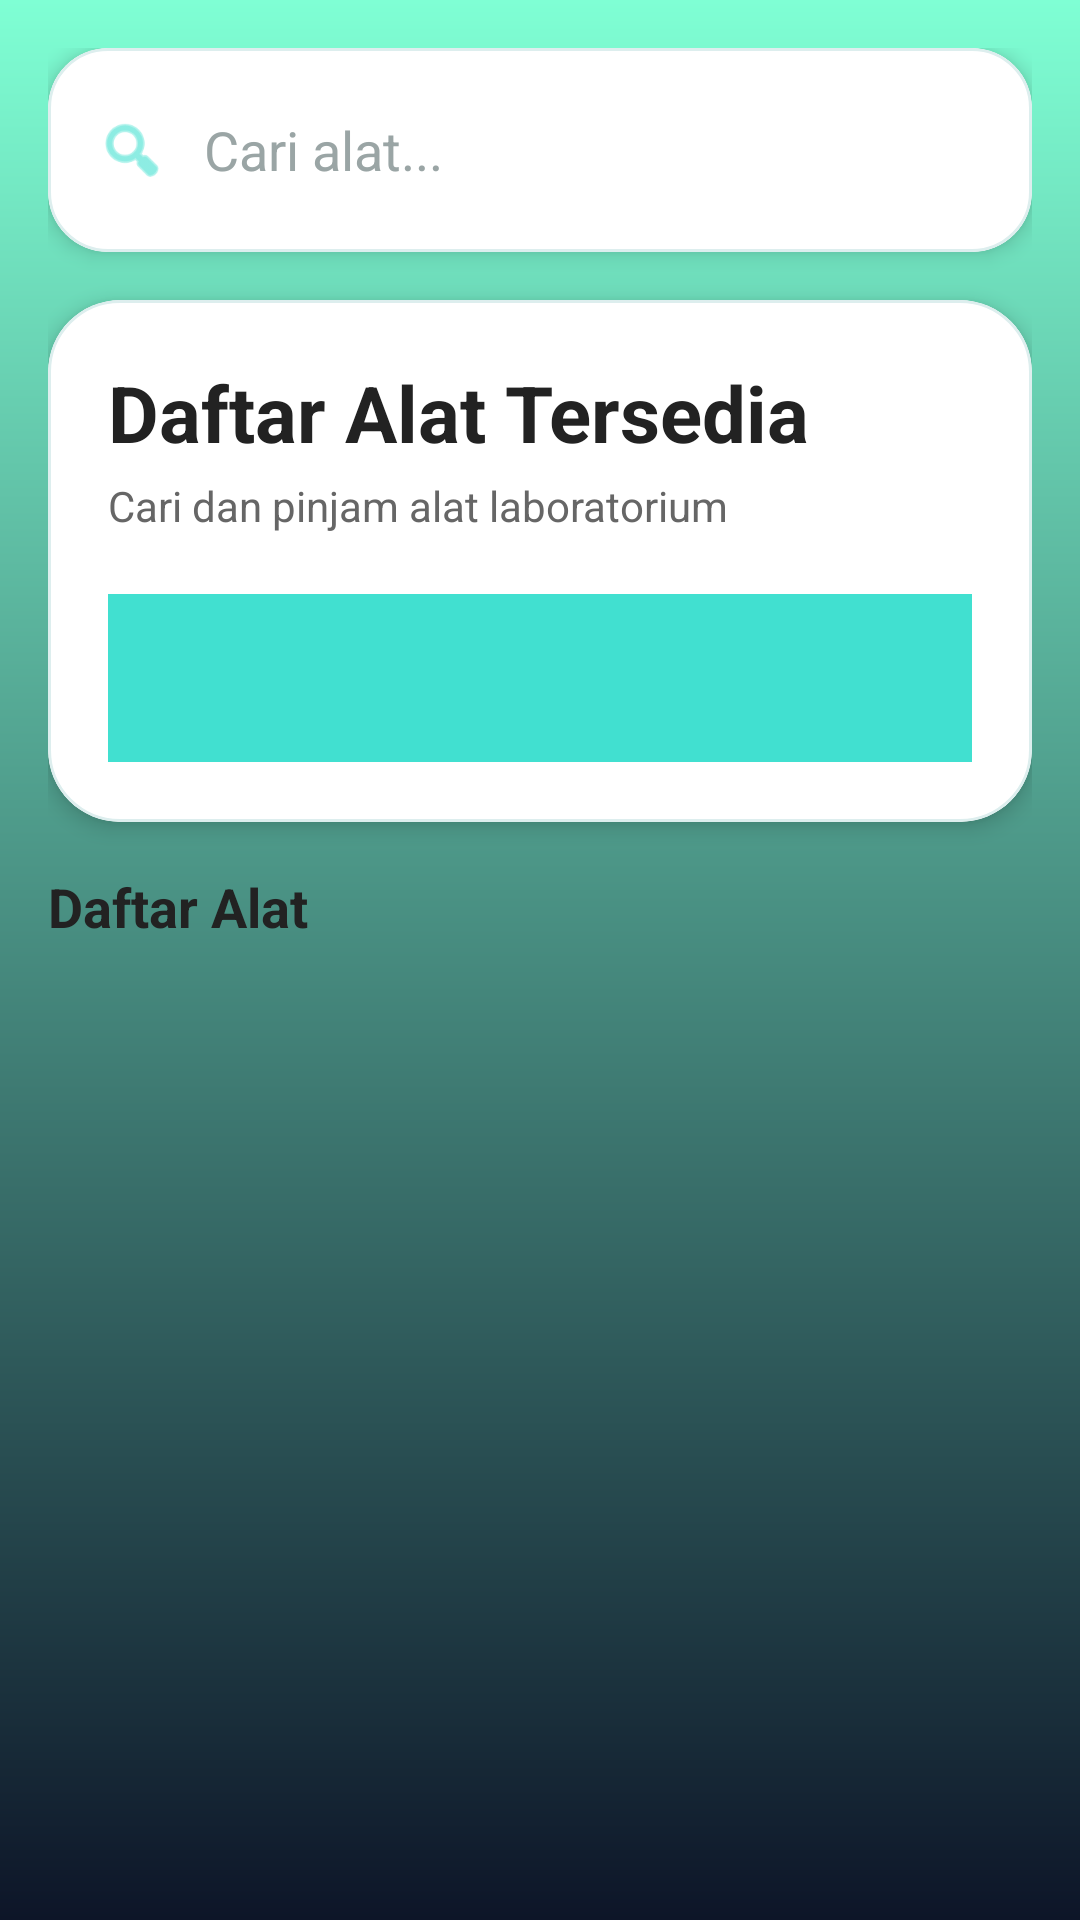

Screen size 1080w x 1920h. Icon name, then its center in pixels as point (x, y):
search: point (132, 150)
